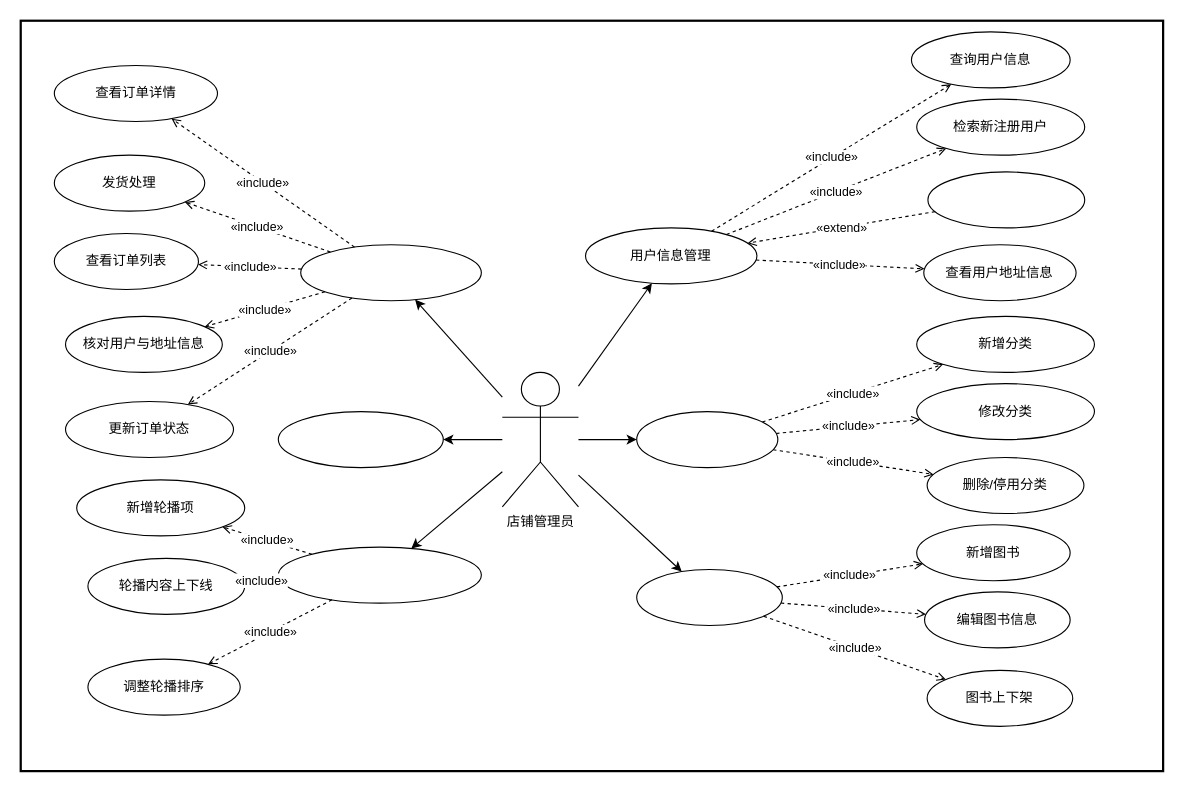
This 1183x791 diagram has some shape labels left out. Each missing label, with the box of its shape:
图书信息管理: (636, 568, 782, 626)
图书分类管理: (636, 410, 778, 468)
更新用户信息: (927, 171, 1085, 228)
管理员登录: (277, 410, 443, 468)
订单管理: (300, 244, 481, 301)
轮播图管理: (277, 546, 481, 603)
